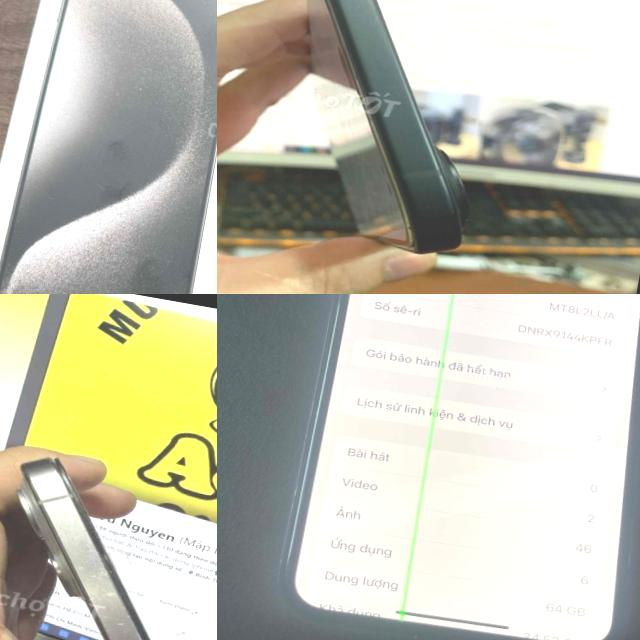gen_15: (0, 434, 217, 640)
gen_16: (306, 0, 467, 252)
gen_x_xs: (276, 294, 640, 640)
scratch: (74, 587, 162, 640), (20, 456, 99, 512), (64, 538, 121, 595)
screen_defect: (381, 294, 495, 621)
